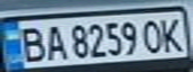2: (84, 20, 109, 58)
5: (103, 19, 124, 57)
8: (66, 20, 90, 60)
9: (118, 18, 142, 56)
A: (39, 21, 69, 61)
B: (15, 24, 48, 63)
K: (157, 15, 190, 53)
O: (139, 16, 166, 54)
